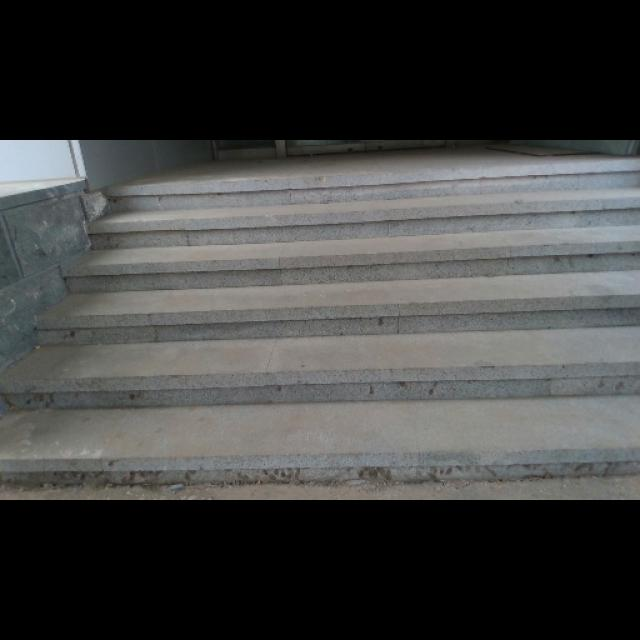Stairs: (0, 149, 639, 495)
